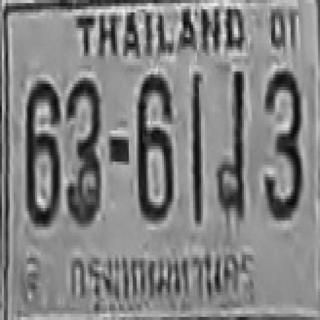N01: (223, 68, 243, 218), (227, 70, 243, 216), (229, 70, 243, 219), (190, 68, 202, 221)
N03: (264, 67, 300, 216), (64, 76, 100, 222)
N06: (137, 72, 172, 218), (23, 78, 58, 224)
P04: (67, 248, 257, 307)
